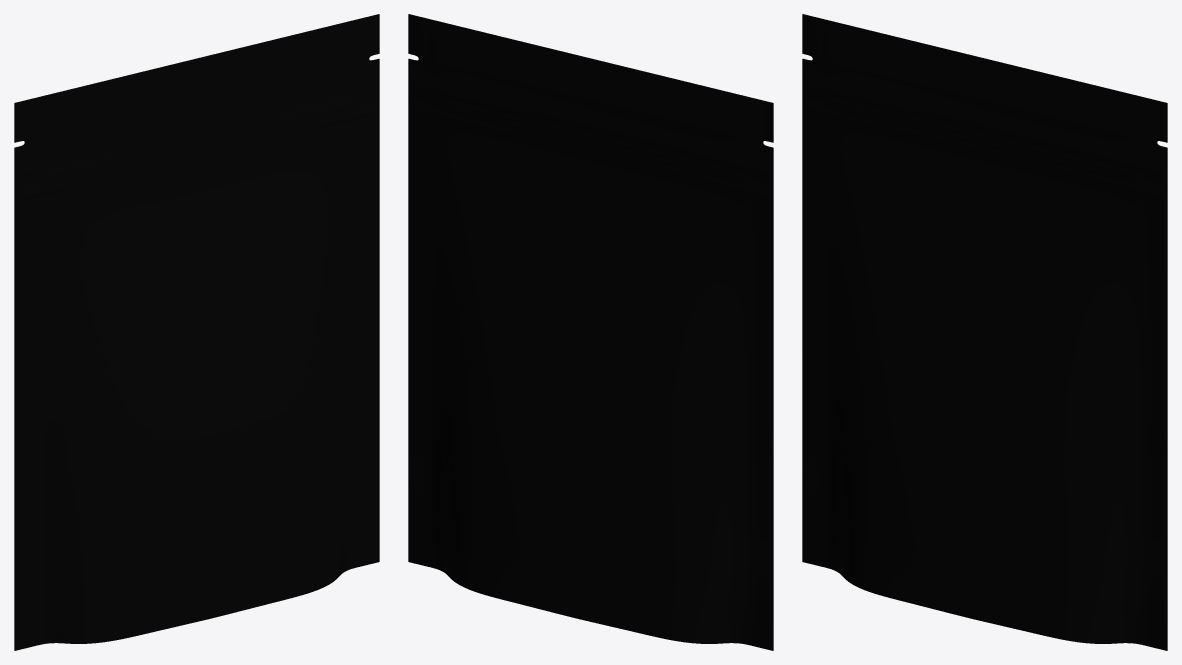
Rendered from pkgtype7.obj.
The picture shows the model from 3 angles, left to right: view 1: azimuth 30°, elevation 25°; view 2: azimuth 150°, elevation 25°; view 3: azimuth 330°, elevation 25°; orthographic projection.
Visible parts, largest first — view 1: mylar_bag_008; view 2: mylar_bag_008; view 3: mylar_bag_008.
Part boxes in pixels (x1,y1,x2,y2): mylar_bag_008: (14,14,379,650); mylar_bag_008: (408,14,773,650); mylar_bag_008: (802,14,1167,650).
Size of the model in its own units: 8.44 by 12.1 by 1.3.
